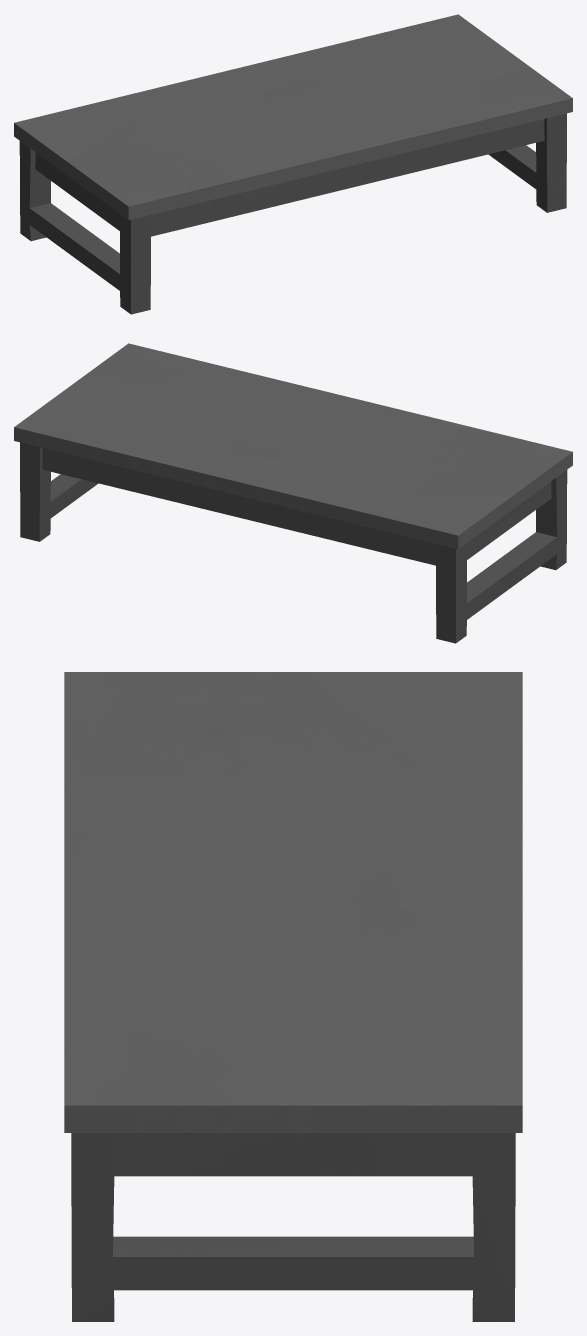
The model's file is Pfb_Table__4.fbx.
The picture shows the model from 3 angles, top to bottom: view 1: azimuth 30°, elevation 25°; view 2: azimuth 150°, elevation 25°; view 3: azimuth 270°, elevation 25°; orthographic projection. The views are drawn at different scales.
Parts seen in each view (by area): view 1: Mat_Table_02White; view 2: Mat_Table_02White; view 3: Mat_Table_02White.
Part boxes in pixels (box(x1,y1,x2,y2)): Mat_Table_02White: box(14, 14, 572, 314); Mat_Table_02White: box(14, 343, 572, 643); Mat_Table_02White: box(64, 672, 522, 1321).
Bounding box in the file's own units: 2.78 × 0.6588 × 1.24.
Materials: 1 (1 with a texture image).
